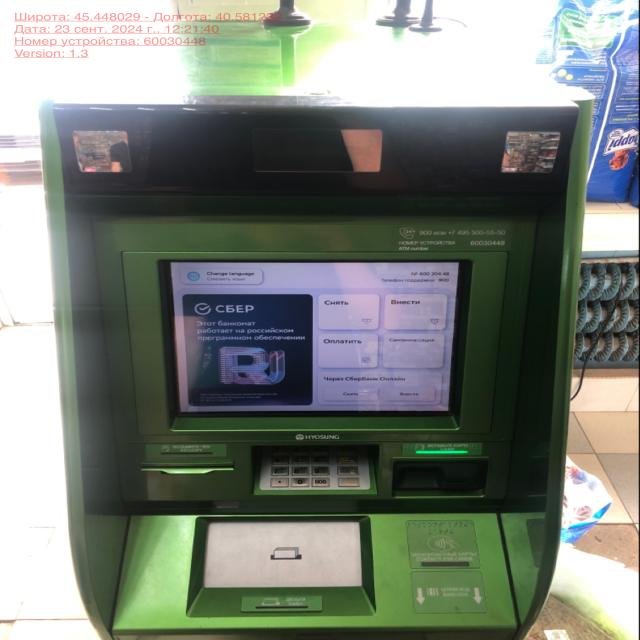bank: (37, 14, 593, 640)
